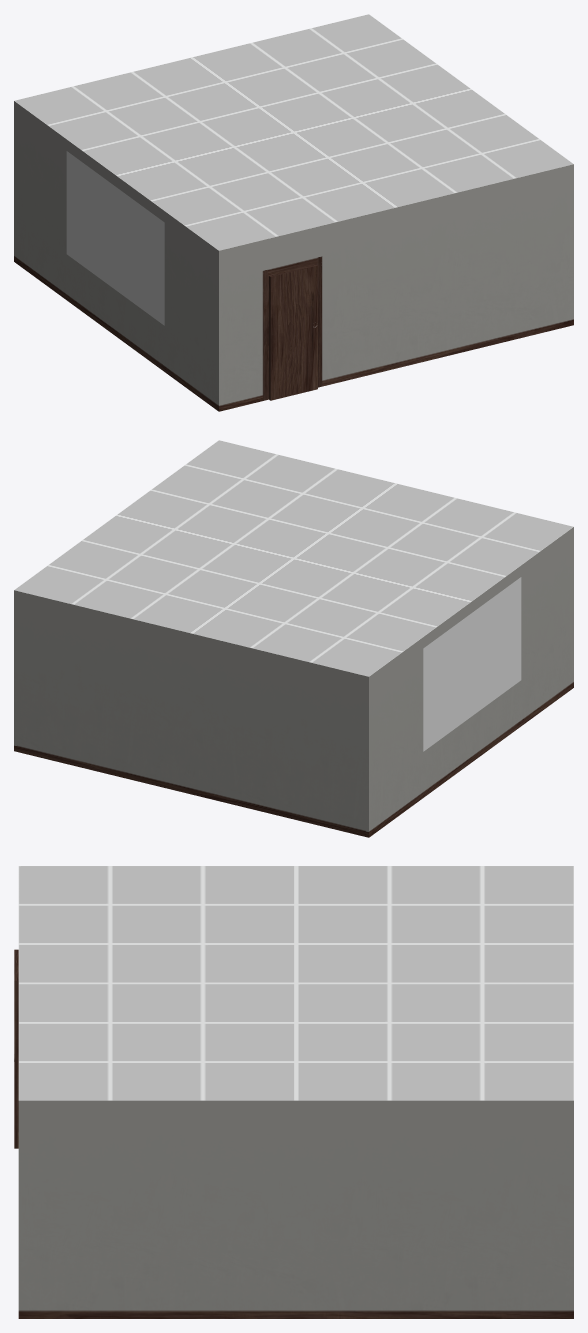
Rendered from Room.fbx.
The picture shows the model from 3 angles, top to bottom: view 1: azimuth 30°, elevation 25°; view 2: azimuth 150°, elevation 25°; view 3: azimuth 270°, elevation 25°; orthographic projection. The views are drawn at different scales.
Visible parts, largest first — view 1: Room, WindowPlate; view 2: Room, WindowPlate; view 3: Room.
Boxes of the visible parts, x1,y1,x2,y2 form: Room: (14,14,573,411); WindowPlate: (66,151,164,325); Room: (14,440,573,837); WindowPlate: (423,577,521,751); Room: (14,866,573,1318).
Size of the model in its own units: 601 by 264 by 605.
